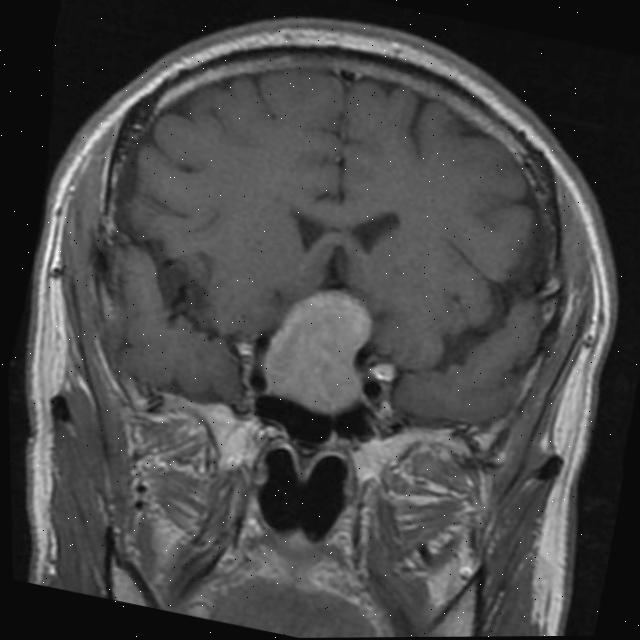Pituitary: (253, 275, 382, 420)
